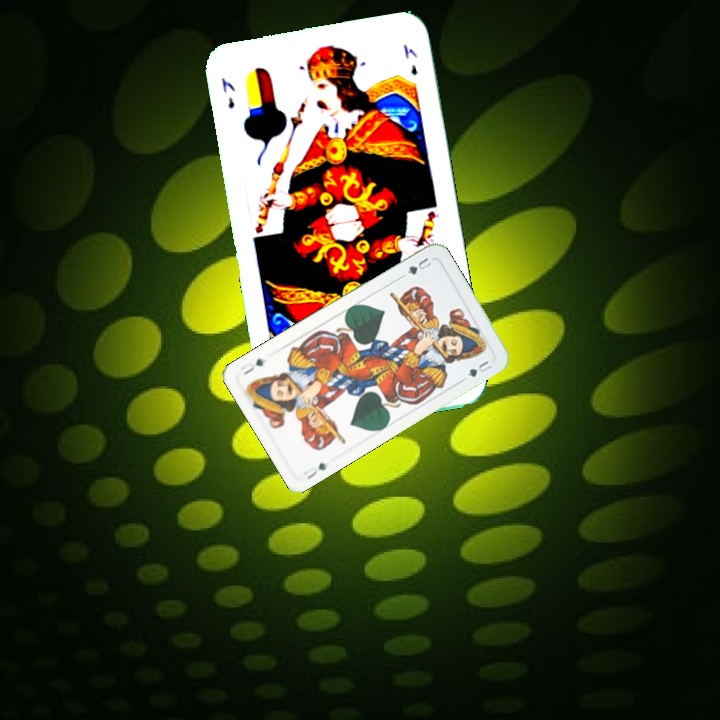EK: (217, 73, 238, 112)
GU: (403, 253, 434, 277), (300, 458, 330, 482)
